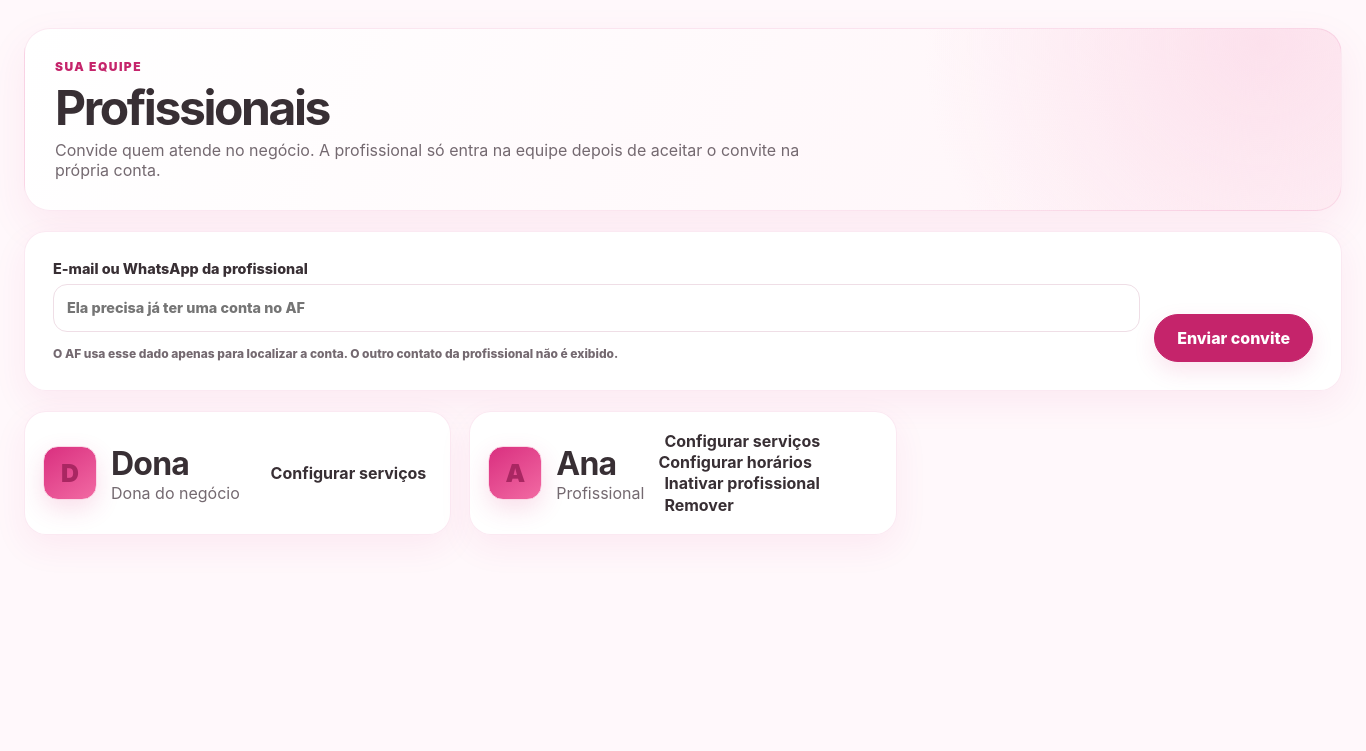
Scenario: inativação manual › pede confirmação, protege a dona e preserva o estado confirmado se a atualização falha
expect the heading "Ana" is shown: met, box [556,444,616,483]
Click the button "Inativar profissional". click: {"x": 742, "y": 483}
box: [658,472,826,494]
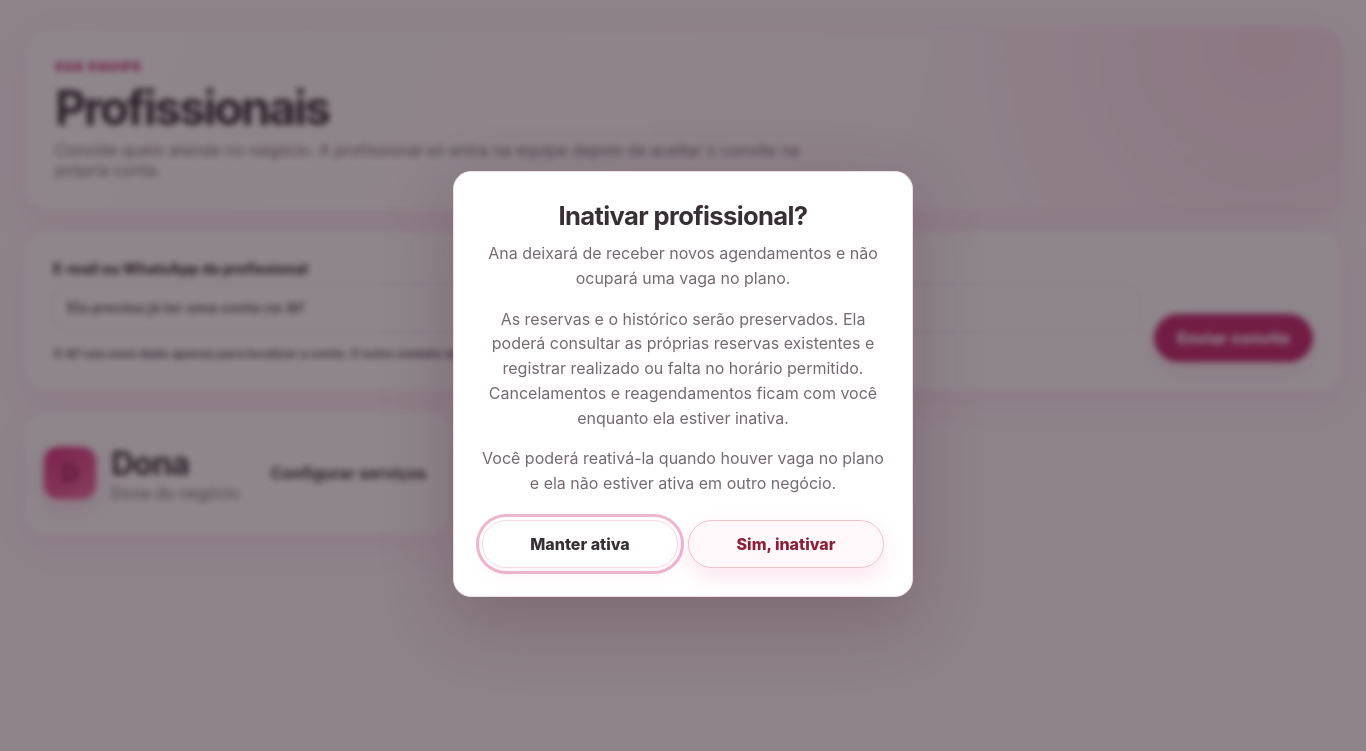
expect the dialog "Inativar profissional?" shows "Cancelamentos e reagendamentos ficam com você": met, box [489,308,877,428]
Click the button "Sim, inativar". click: {"x": 786, "y": 544}
box: [688,520,884,568]
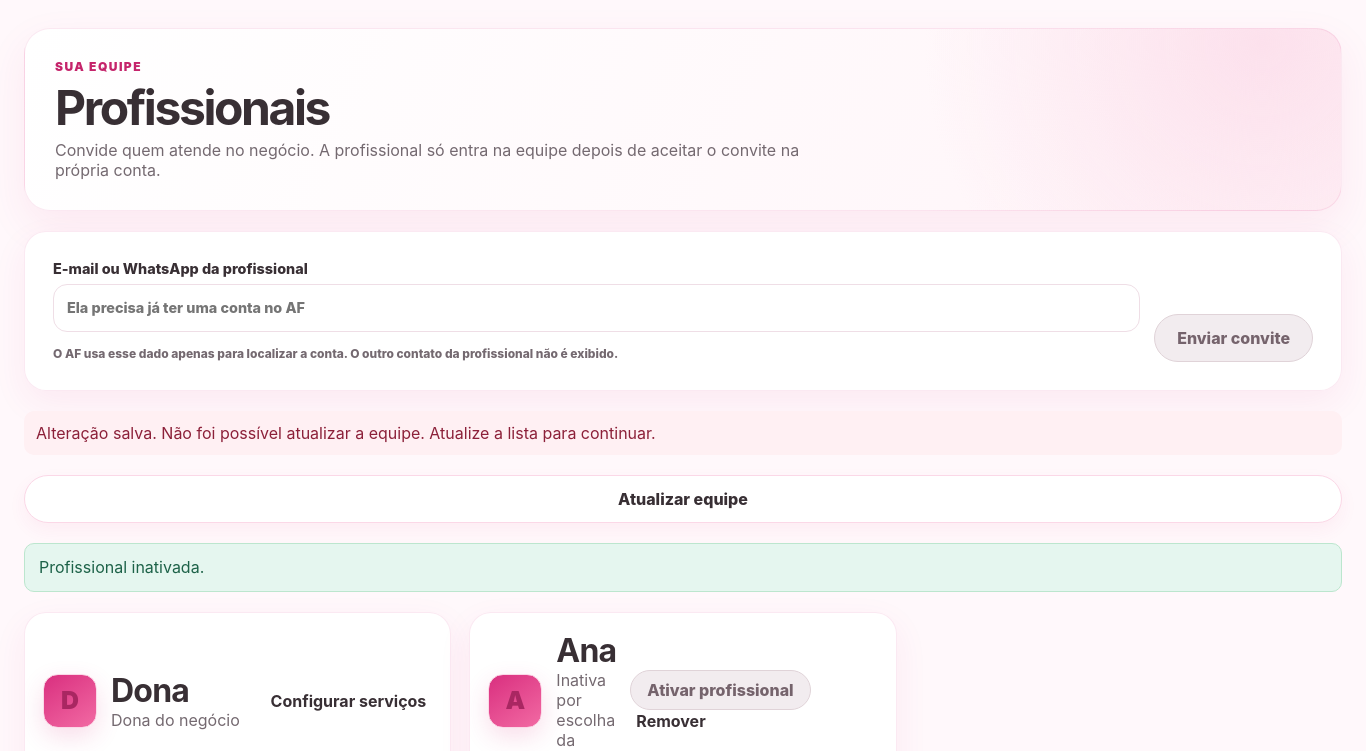
expect the text "Alteração salva" is shown: met, box [36,423,656,443]
expect the dialog is gone: met
expect the button "Ativar profissional" is disabled: met, box [630,670,811,710]
Click the button "Atualizar equipe". click: {"x": 683, "y": 499}
box: [24,475,1342,523]
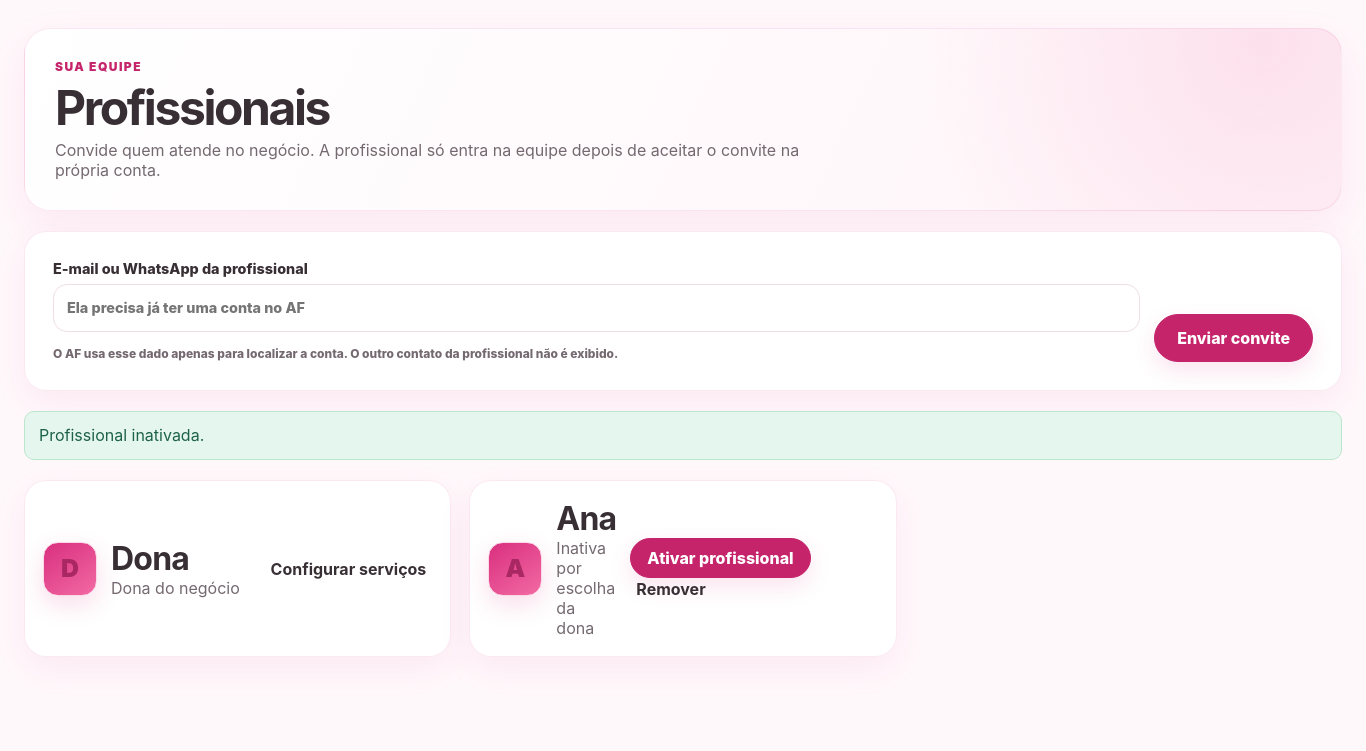
expect the button "Ativar profissional" is enabled: met, box [630,538,811,578]
